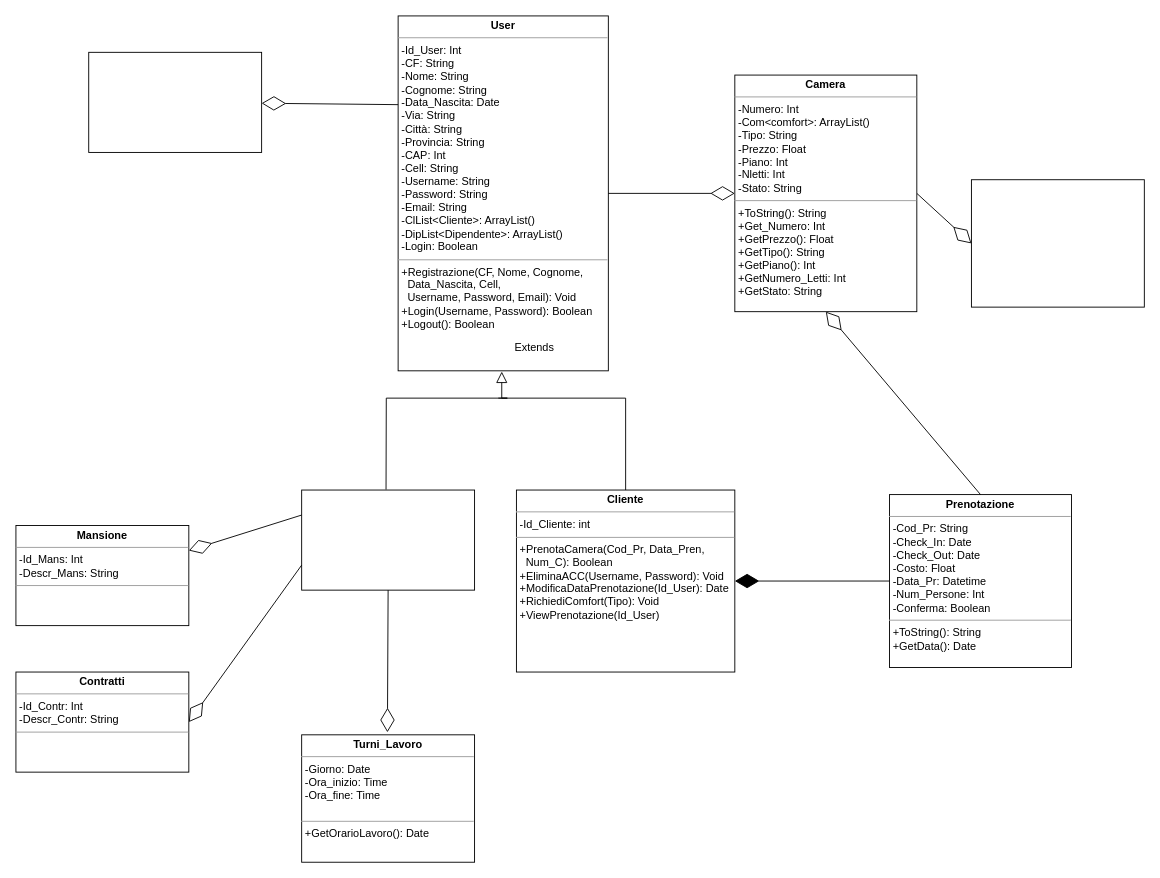
Image size: 1160x878. Some labels were removed from this diagram. Here are the shapes that lost their labels. From the top down, the box of each, then its label:
(88, 51, 262, 152): Tipologia_Utente -Id_Tipo: Int -Descr_Tipo: String
(971, 179, 1144, 307): Comfort -Id_Comfort: String -Tipo: String -Prezzo: Float + ToString(): String
(301, 489, 475, 590): Dipendente -Id_L: Int -Stipendio: Float +GetOrarioLavoro(): Date
